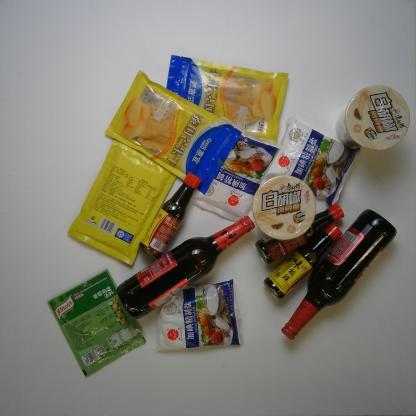Alcohol: (276, 208, 398, 343), (115, 213, 258, 322)
Dried Fruit: (102, 69, 245, 196), (65, 136, 180, 268), (165, 53, 291, 145)
Instant Noodles: (333, 82, 412, 153), (250, 174, 318, 242)
Seasoner: (44, 266, 148, 379), (260, 114, 363, 208), (186, 129, 282, 225), (150, 276, 246, 356), (262, 222, 345, 301), (253, 201, 348, 267), (137, 171, 202, 262)
